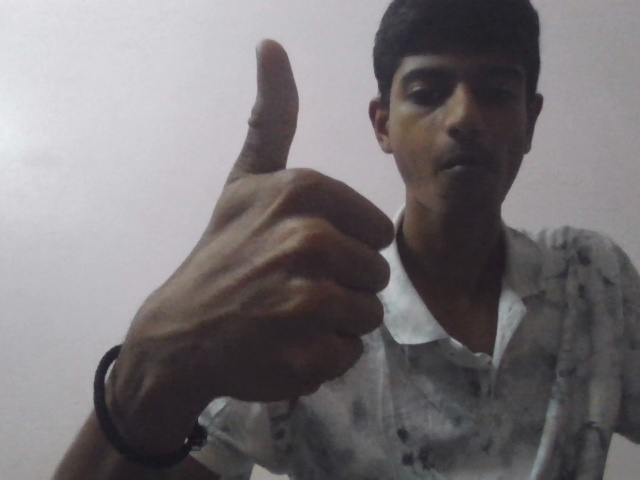thanks: (118, 33, 393, 404)
